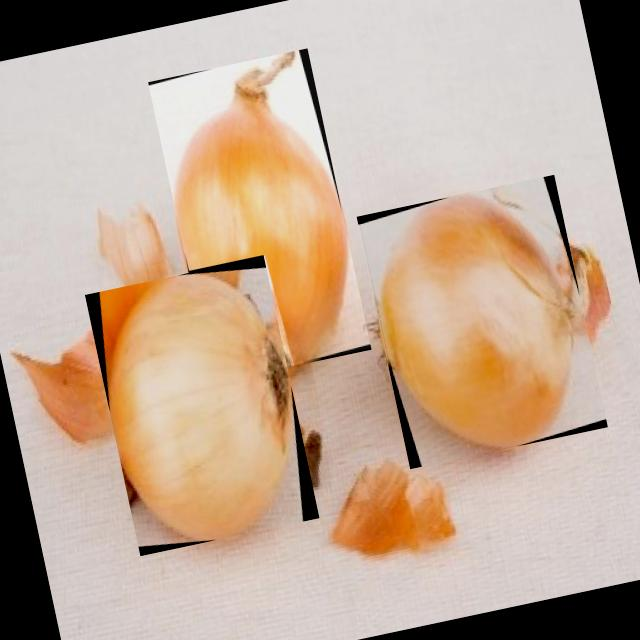healthy: (176, 51, 349, 363), (380, 194, 580, 447), (109, 273, 292, 539)
